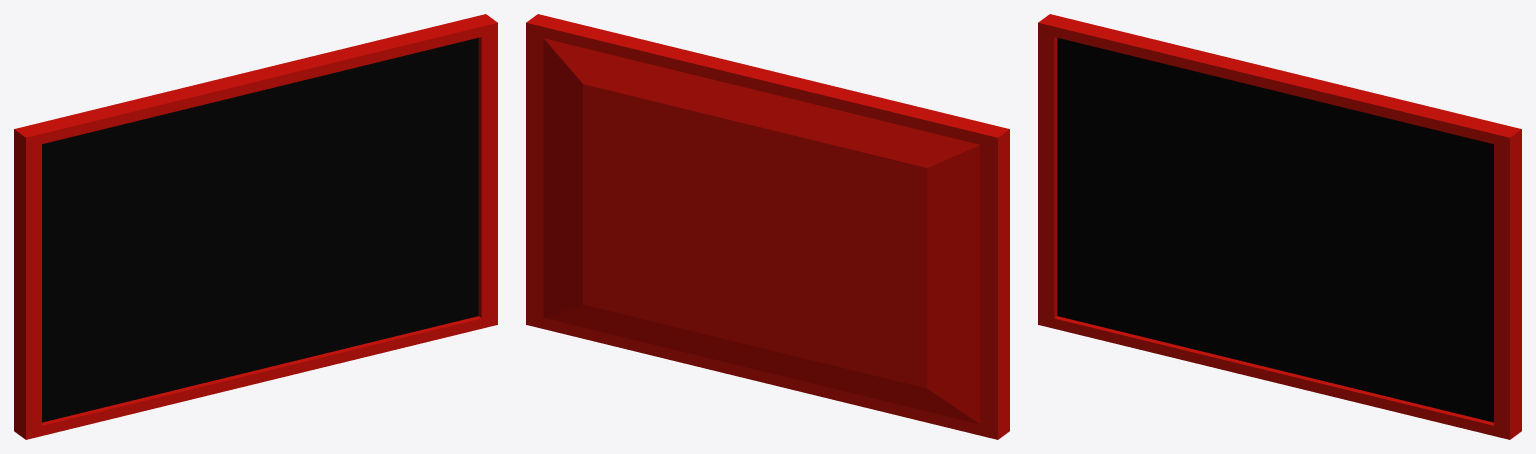
The picture shows the model from 3 angles, left to right: view 1: azimuth 30°, elevation 25°; view 2: azimuth 150°, elevation 25°; view 3: azimuth 330°, elevation 25°; orthographic projection.
Visible parts, largest first — view 1: TV_Screen, TV; view 2: TV; view 3: TV_Screen, TV.
Part boxes in pixels (left/top/right/bottom): TV_Screen: left=42, top=38, right=478, bottom=422; TV: left=14, top=14, right=497, bottom=439; TV: left=526, top=14, right=1009, bottom=439; TV_Screen: left=1057, top=38, right=1493, bottom=422; TV: left=1038, top=14, right=1521, bottom=439.
Size of the model in its own units: 200 by 122 by 13.74.
